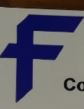Fisher: (1, 15, 84, 103)
